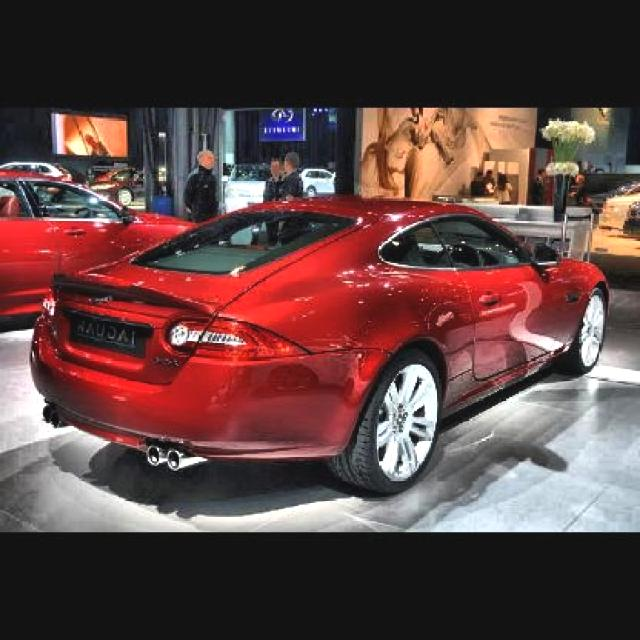red: (33, 202, 614, 506)
